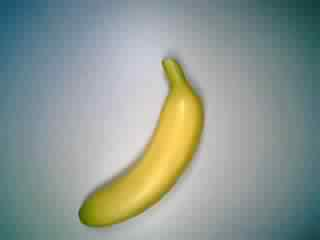banana: (73, 50, 210, 233)
